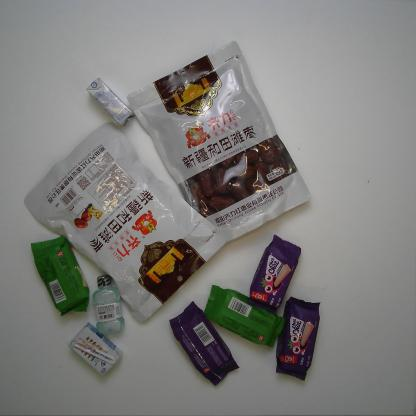Dessert: (168, 300, 241, 388), (203, 283, 287, 350), (29, 233, 90, 318), (248, 234, 303, 316), (274, 295, 322, 382)
Dried Food: (22, 122, 229, 326), (125, 39, 312, 242)
Milk: (67, 322, 124, 378), (85, 77, 136, 127)
Personal Hygiene: (90, 274, 126, 336)
